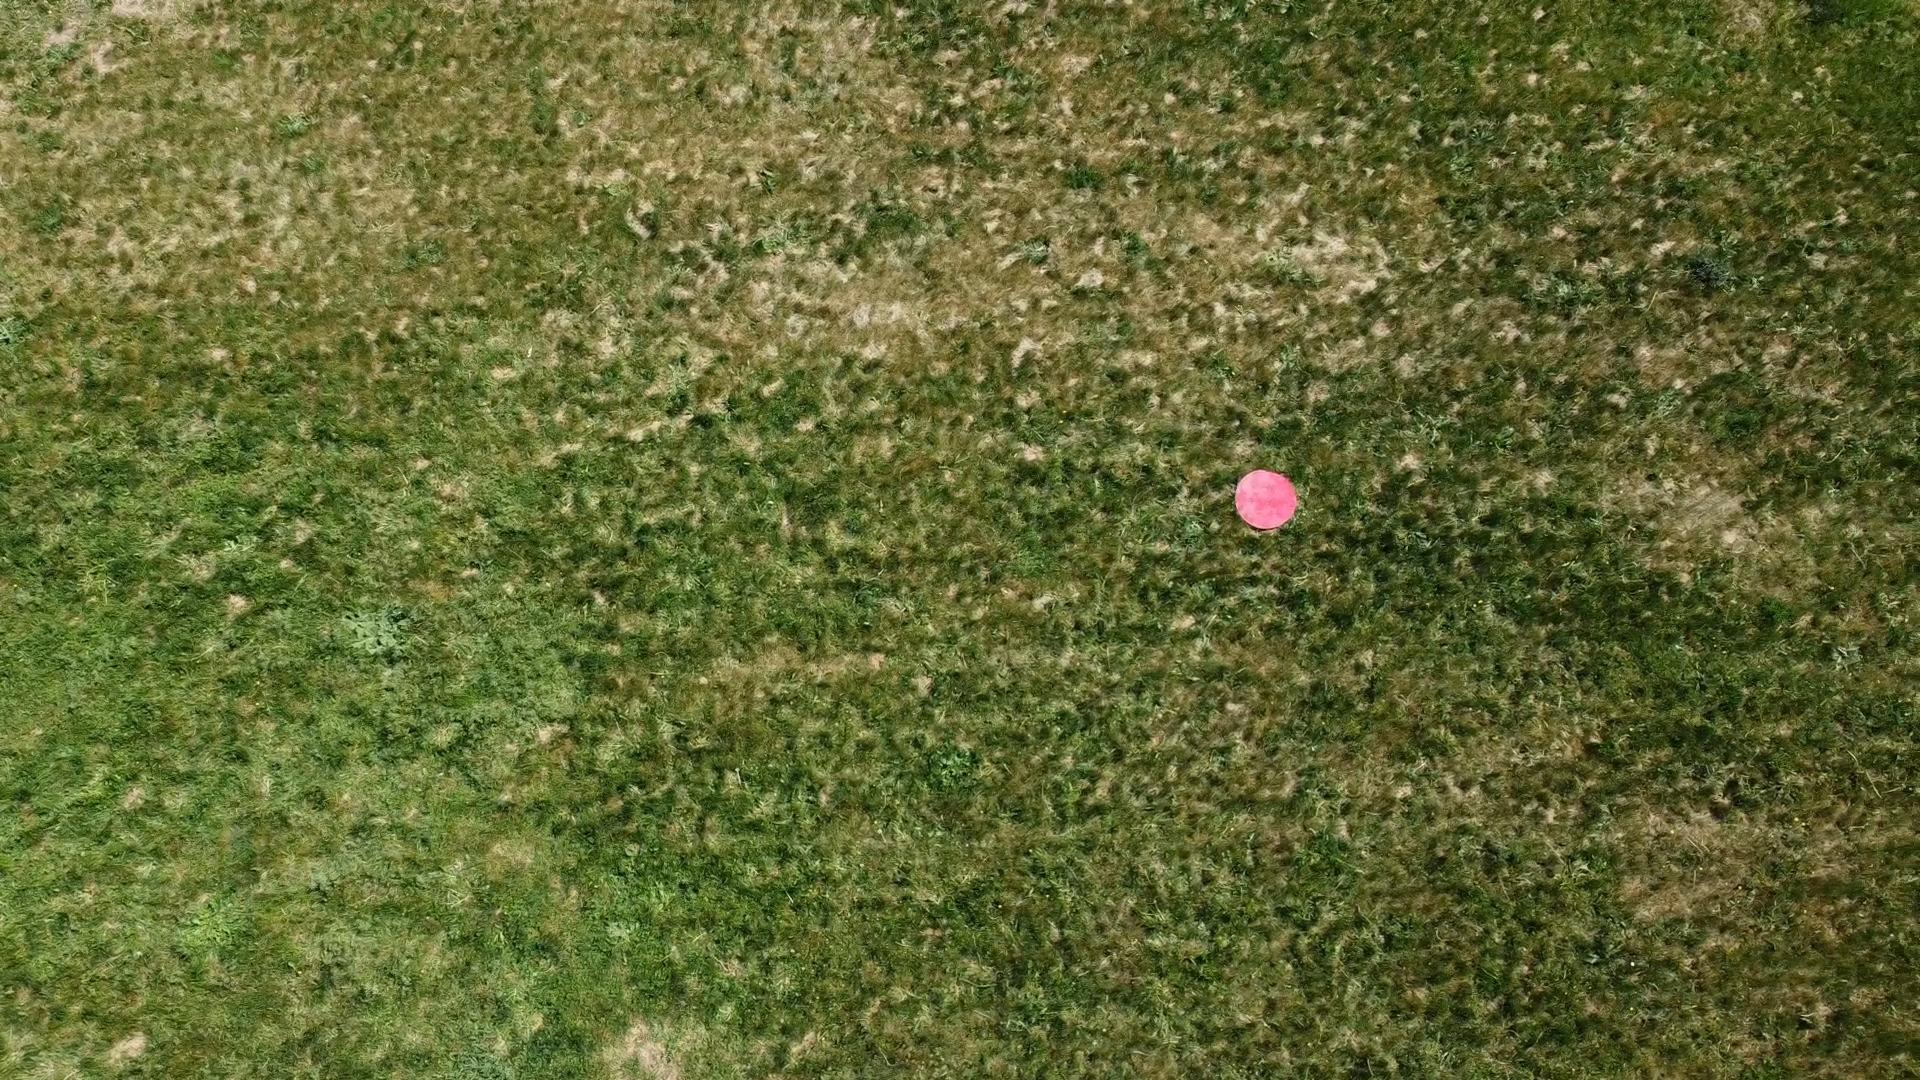Red: (1232, 465, 1303, 534)
